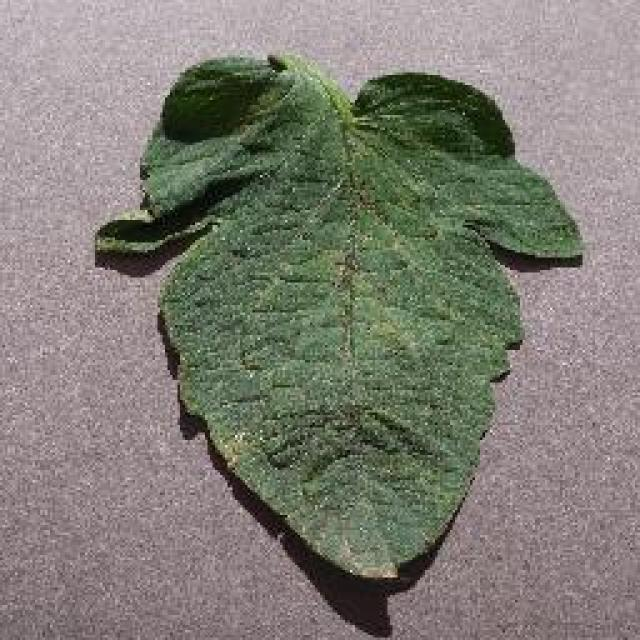Tomato___Target_Spot: (95, 55, 580, 578)
